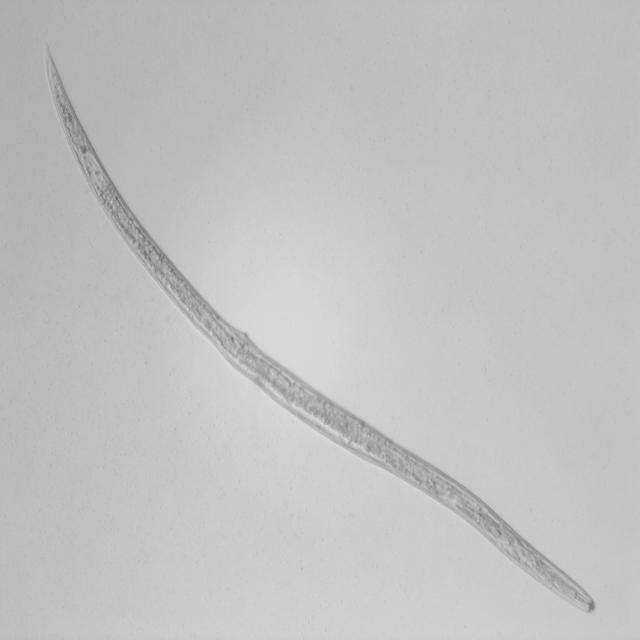Radopholus: (35, 38, 606, 616)
